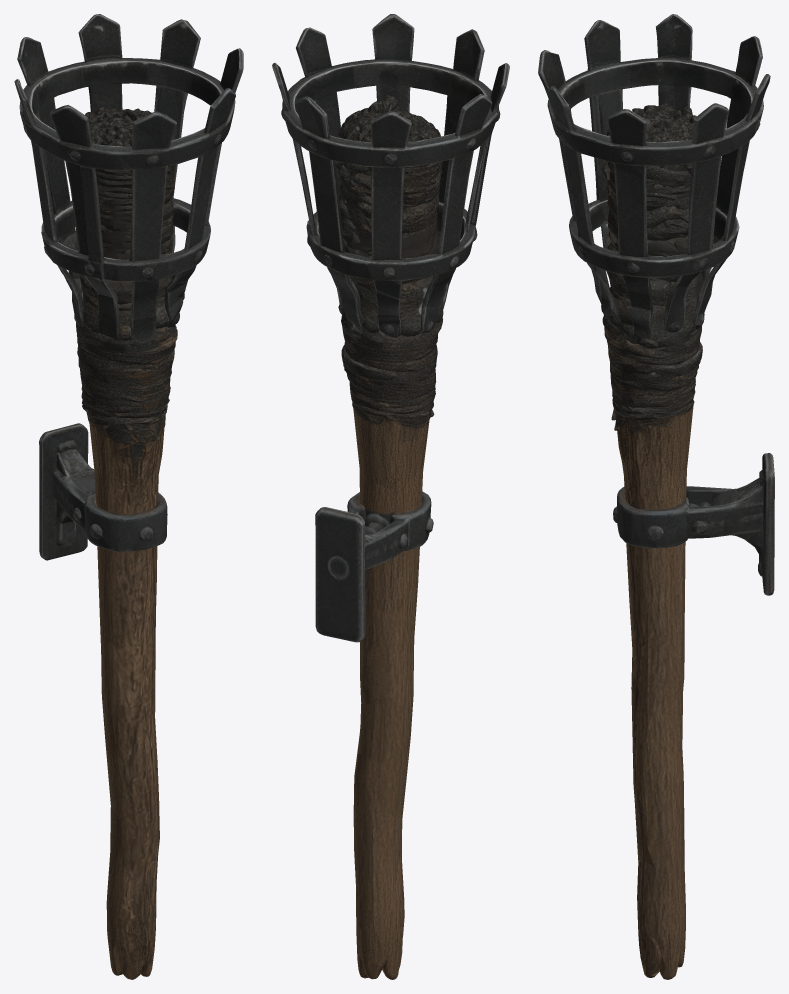
File: torch_mount.glb
3 renders of one model, left to right at view 1: azimuth 30°, elevation 25°; view 2: azimuth 150°, elevation 25°; view 3: azimuth 270°, elevation 25°, orthographic.
Parts seen in each view (by area): view 1: Mesh_0; view 2: Mesh_0; view 3: Mesh_0.
Part boxes in pixels (x1,y1,x2,y2): Mesh_0: (14, 14, 243, 979); Mesh_0: (272, 14, 509, 979); Mesh_0: (538, 14, 774, 979).
Size of the model in its own units: 0.4428 by 1.9 by 0.4497.
Materials: 1 (1 with a texture image).
